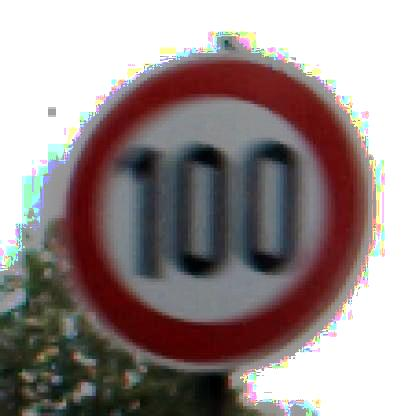Speed Limit -100-: (60, 46, 372, 372)
